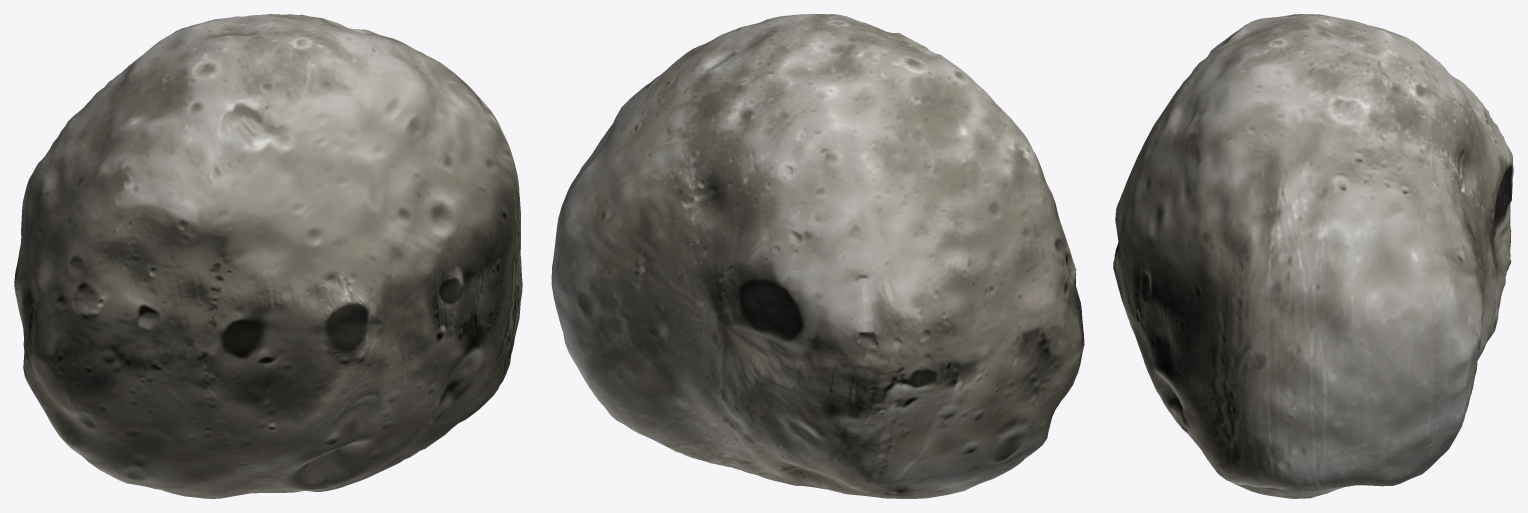
File: phobos.glb
The picture shows the model from 3 angles, left to right: view 1: azimuth 30°, elevation 25°; view 2: azimuth 150°, elevation 25°; view 3: azimuth 270°, elevation 25°; orthographic projection. The views are drawn at different scales.
Parts seen in each view (by area): view 1: phobos; view 2: phobos; view 3: phobos.
Part boxes in pixels (x1=…): phobos: x1=14, y1=14, x2=522, y2=498; phobos: x1=551, y1=14, x2=1084, y2=498; phobos: x1=1113, y1=14, x2=1513, y2=498.
Size of the model in its own units: 25603 by 23078 by 19434.
Materials: 1 (1 with a texture image).
